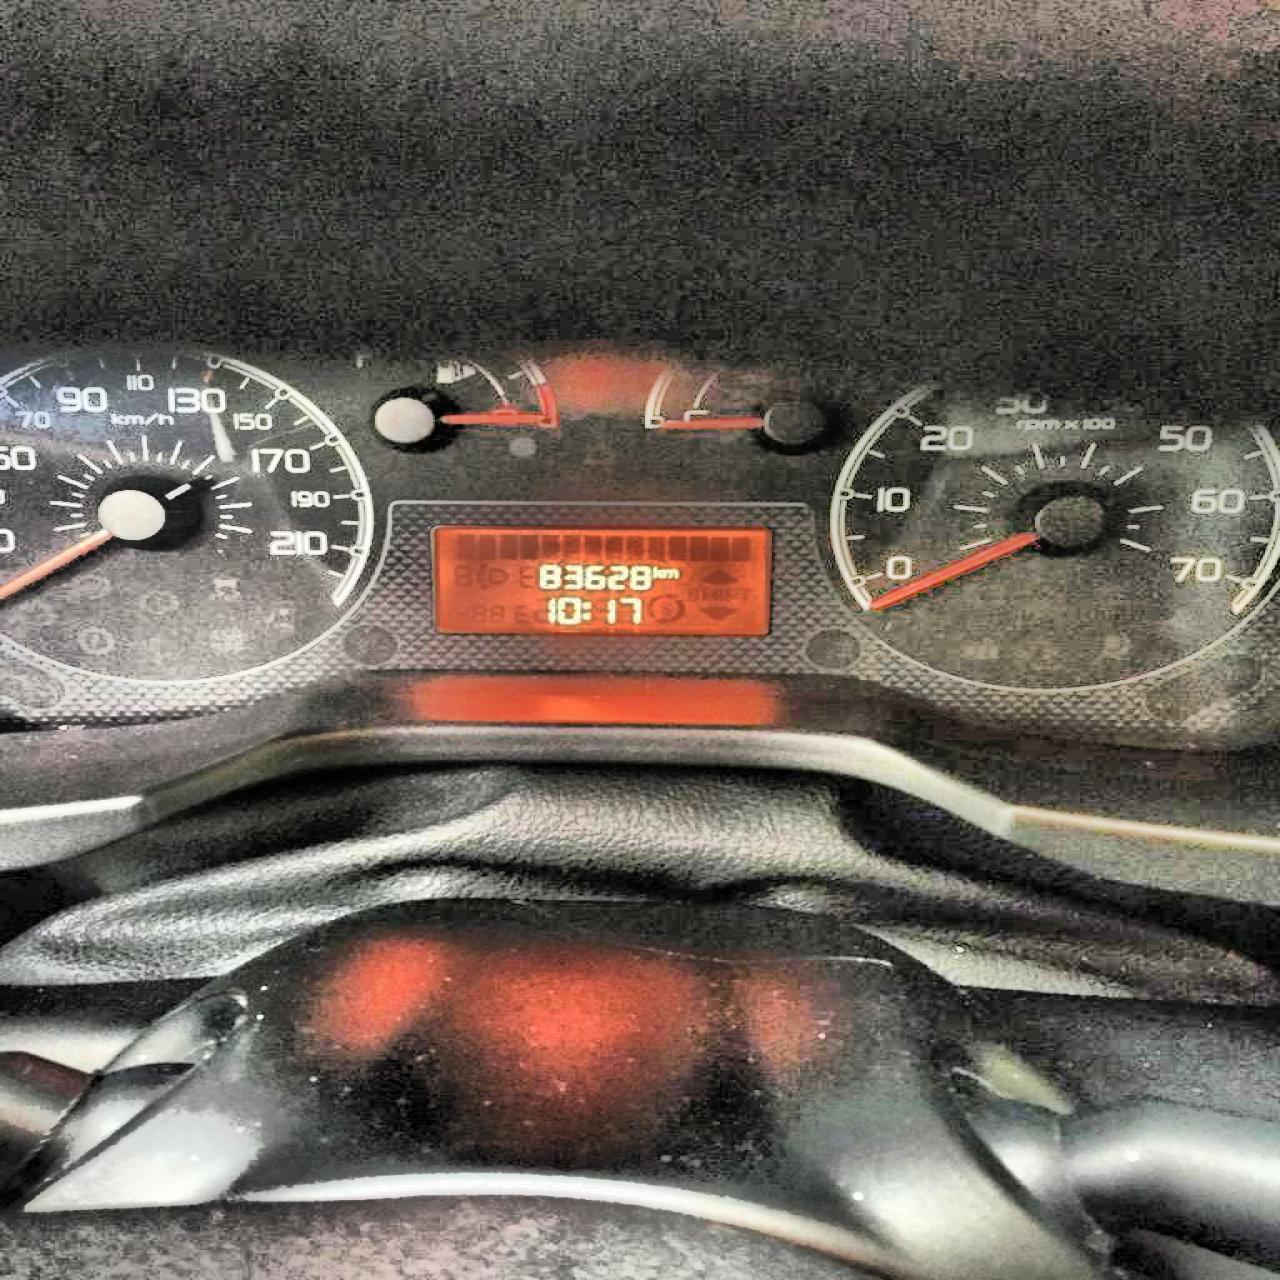0: (557, 595, 578, 625)
1: (604, 595, 617, 625), (545, 597, 554, 624)
2: (606, 561, 626, 591)
3: (561, 561, 580, 588)
6: (584, 563, 605, 590)
7: (618, 595, 641, 624)
8: (535, 561, 560, 590), (628, 563, 649, 590)
X: (580, 599, 592, 620), (662, 566, 680, 578), (652, 563, 661, 579)
odometer: (430, 522, 774, 636)
